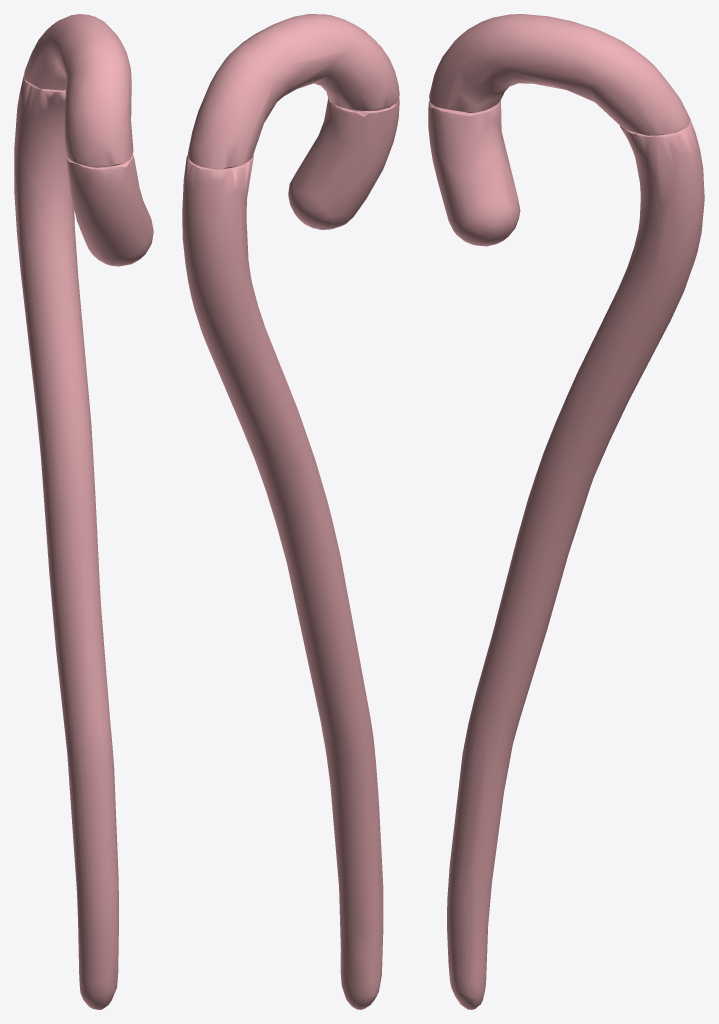
Rendered from aorta.glb.
The picture shows the model from 3 angles, left to right: view 1: azimuth 30°, elevation 25°; view 2: azimuth 150°, elevation 25°; view 3: azimuth 270°, elevation 25°; orthographic projection. The views are drawn at different scales.
Parts seen in each view (by area): view 1: FJ3427_Descending_aorta, FJ3411_Arch_of_aorta, FJ3413_Ascending_aorta; view 2: FJ3427_Descending_aorta, FJ3411_Arch_of_aorta, FJ3413_Ascending_aorta; view 3: FJ3427_Descending_aorta, FJ3411_Arch_of_aorta, FJ3413_Ascending_aorta.
Part boxes in pixels (x1=…): FJ3427_Descending_aorta: x1=14, y1=74, x2=118, y2=1009; FJ3411_Arch_of_aorta: x1=24, y1=14, x2=133, y2=167; FJ3413_Ascending_aorta: x1=66, y1=154, x2=153, y2=266; FJ3427_Descending_aorta: x1=182, y1=154, x2=383, y2=1009; FJ3411_Arch_of_aorta: x1=188, y1=14, x2=399, y2=169; FJ3413_Ascending_aorta: x1=288, y1=97, x2=399, y2=229; FJ3427_Descending_aorta: x1=447, y1=120, x2=704, y2=1009; FJ3411_Arch_of_aorta: x1=429, y1=14, x2=690, y2=135; FJ3413_Ascending_aorta: x1=428, y1=101, x2=520, y2=246.
Size of the model in its own units: 0.0417 by 0.3703 by 0.0923.
